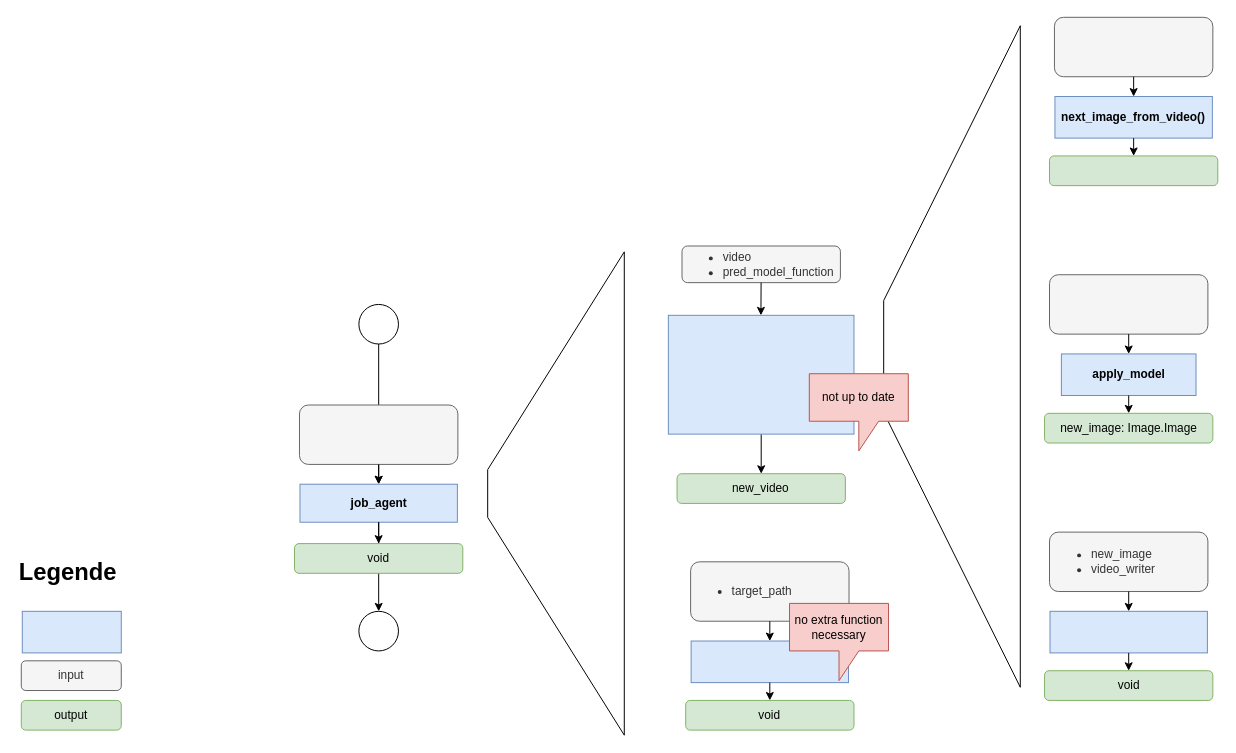
The diagram is 1236 pixels wide and 753 high, and some of its shapes have lost their labels. The shapes that lost their labels are listed below. From the top down, each one's box as (x1, y1, x2, y2) in pixels, then its label:
(1053, 16, 1213, 77): video: cv2.VideoCapture
(1049, 155, 1218, 186): image: Image.Image
(1049, 274, 1208, 334): frame: Image.image pred_model_function: str
(667, 314, 854, 434): convert_video next_image_from_video() apply model() image_to_video()
(298, 404, 458, 464): source_directory model_list[]
(21, 610, 121, 653): function
(1049, 610, 1207, 653): image_to_video()
(690, 640, 849, 683): storage_video
